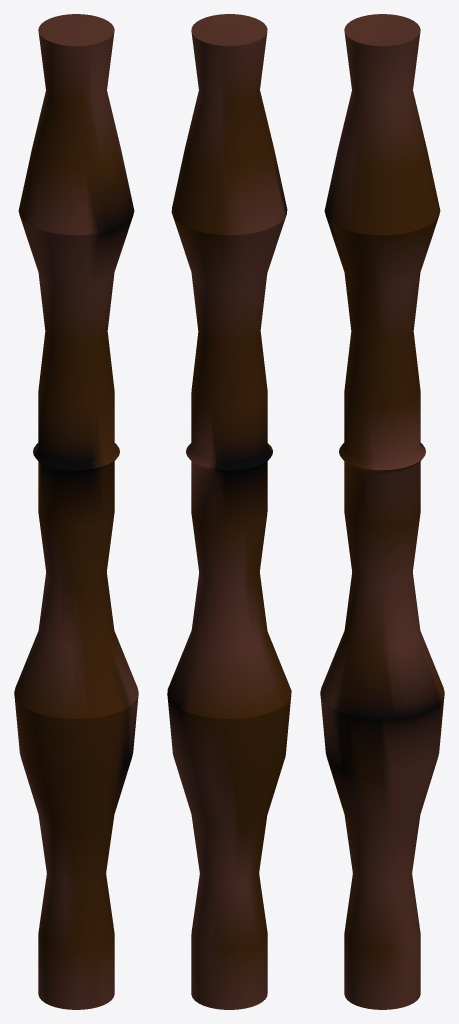
File: FBX_Staircase_Fillar.fbx
3 views of the same model, side by side, from view 1: azimuth 90°, elevation 25°; view 2: azimuth 150°, elevation 25°; view 3: azimuth 270°, elevation 25° (orthographic).
Parts seen in each view (by area): view 1: FBX_Staircase_Fillar; view 2: FBX_Staircase_Fillar; view 3: FBX_Staircase_Fillar.
Part boxes in pixels (left/top/right/bottom): FBX_Staircase_Fillar: left=14, top=14, right=138, bottom=1009; FBX_Staircase_Fillar: left=167, top=14, right=291, bottom=1009; FBX_Staircase_Fillar: left=320, top=14, right=444, bottom=1009.
Size of the model in its own units: 33.53 by 286 by 33.53.
